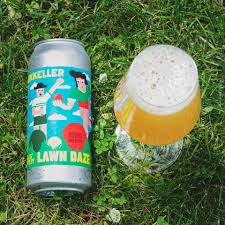can: (21, 39, 97, 198)
